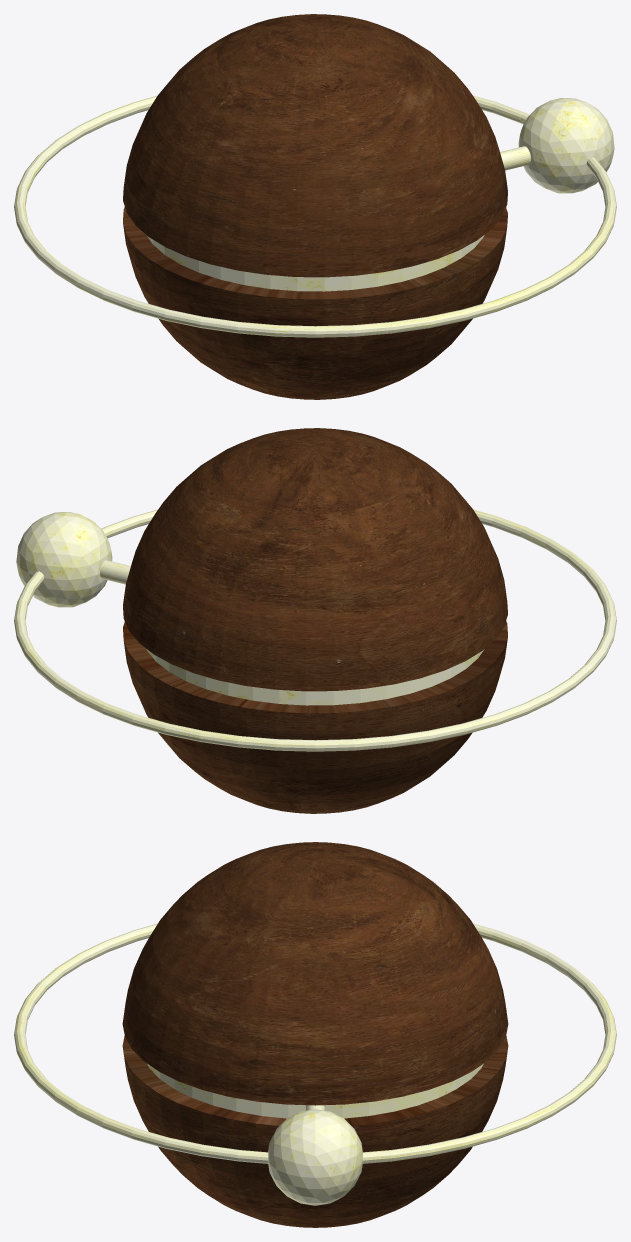
File: Orrery Earth.gltf
The picture shows the model from 3 angles, top to bottom: view 1: azimuth 30°, elevation 25°; view 2: azimuth 150°, elevation 25°; view 3: azimuth 270°, elevation 25°; orthographic projection.
Visible parts, largest first — view 1: Earth; view 2: Earth; view 3: Earth.
Boxes of the visible parts, x1,y1,x2,y2 form: Earth: (14,14,616,399); Earth: (14,428,616,813); Earth: (14,842,616,1227).
Bounding box in the file's own units: 3.31 × 2 × 3.12.
